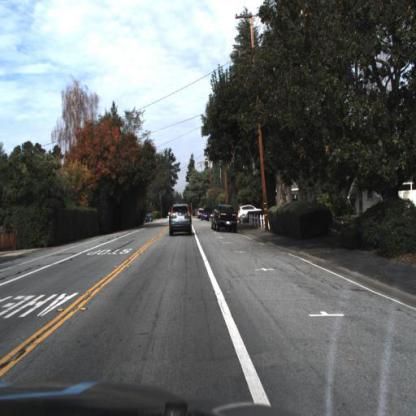car: (165, 198, 199, 243), (216, 201, 239, 237), (235, 203, 266, 223), (143, 209, 156, 227)
